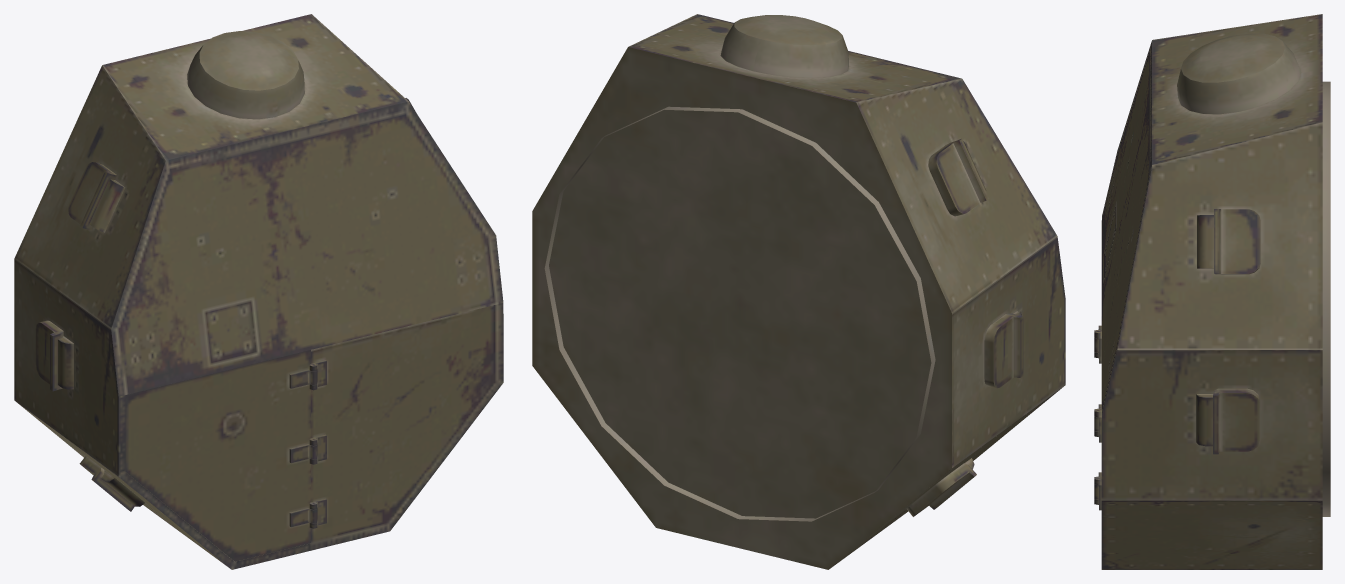
The model's file is Turret_01.glb.
The picture shows the model from 3 angles, left to right: view 1: azimuth 30°, elevation 25°; view 2: azimuth 150°, elevation 25°; view 3: azimuth 270°, elevation 25°; orthographic projection. The views are drawn at different scales.
Visible parts, largest first — view 1: set_0_group_0; view 2: set_0_group_0; view 3: set_0_group_0.
Boxes of the visible parts, x1,y1,x2,y2 form: set_0_group_0: [14, 14, 503, 569]; set_0_group_0: [532, 14, 1065, 569]; set_0_group_0: [1094, 14, 1330, 569].
Size of the model in its own units: 1.53 by 1.66 by 0.7147.
1 material, 1 textured.
